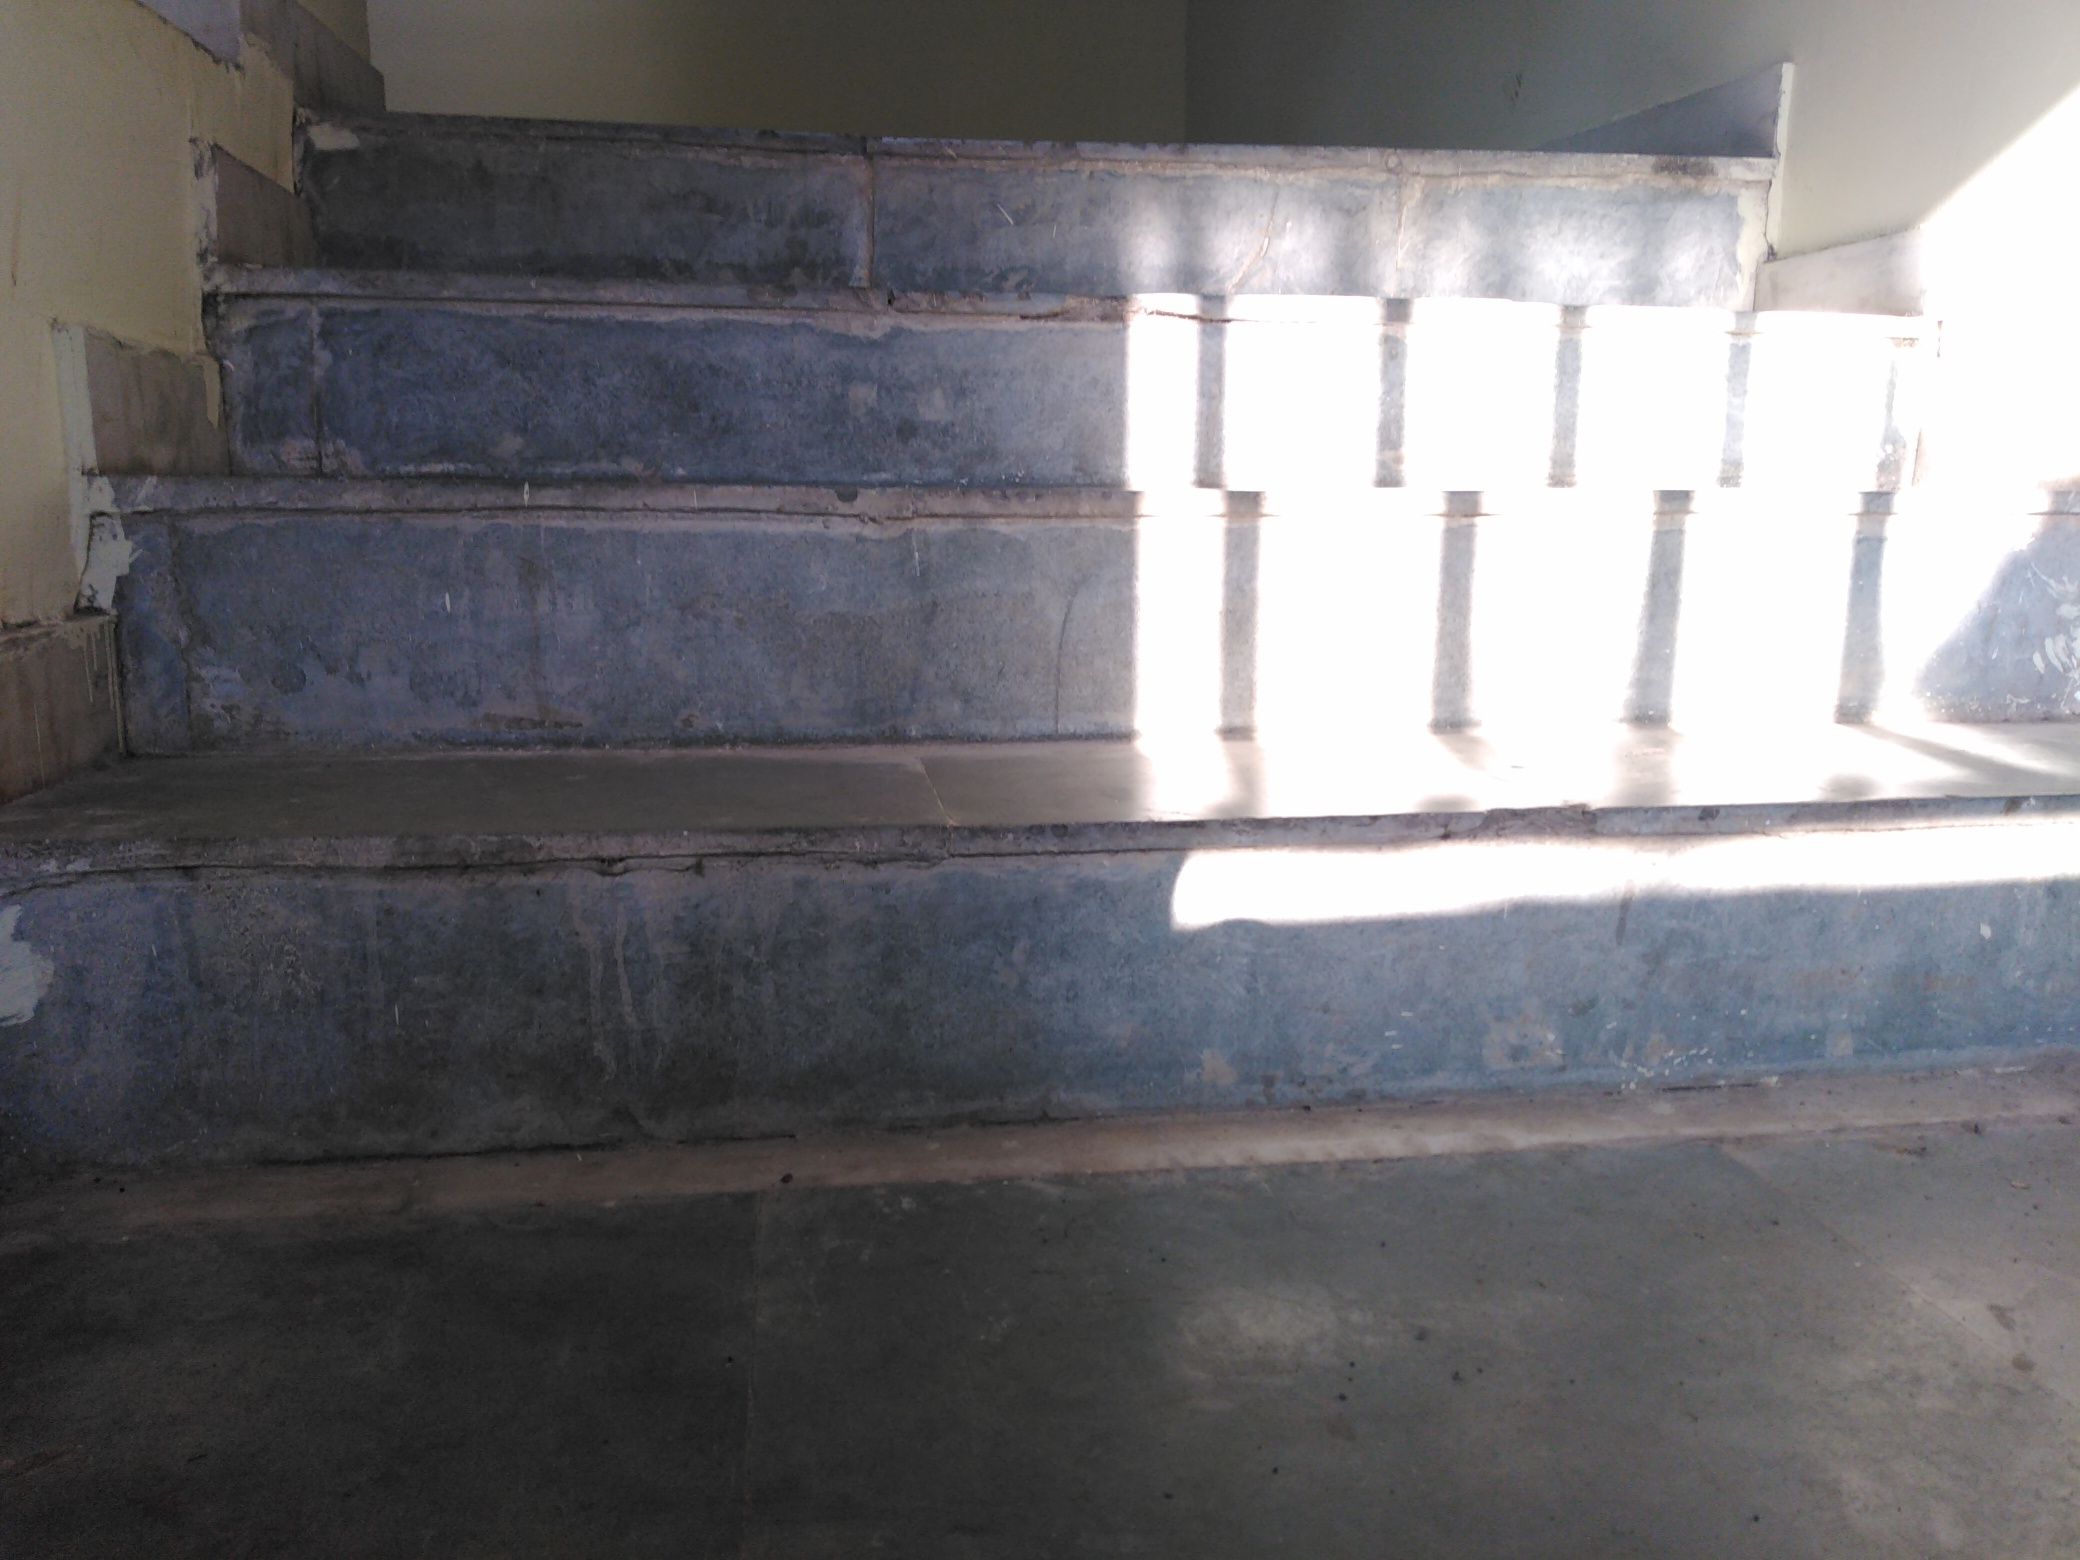stairs_up: (95, 116, 2065, 1077)
